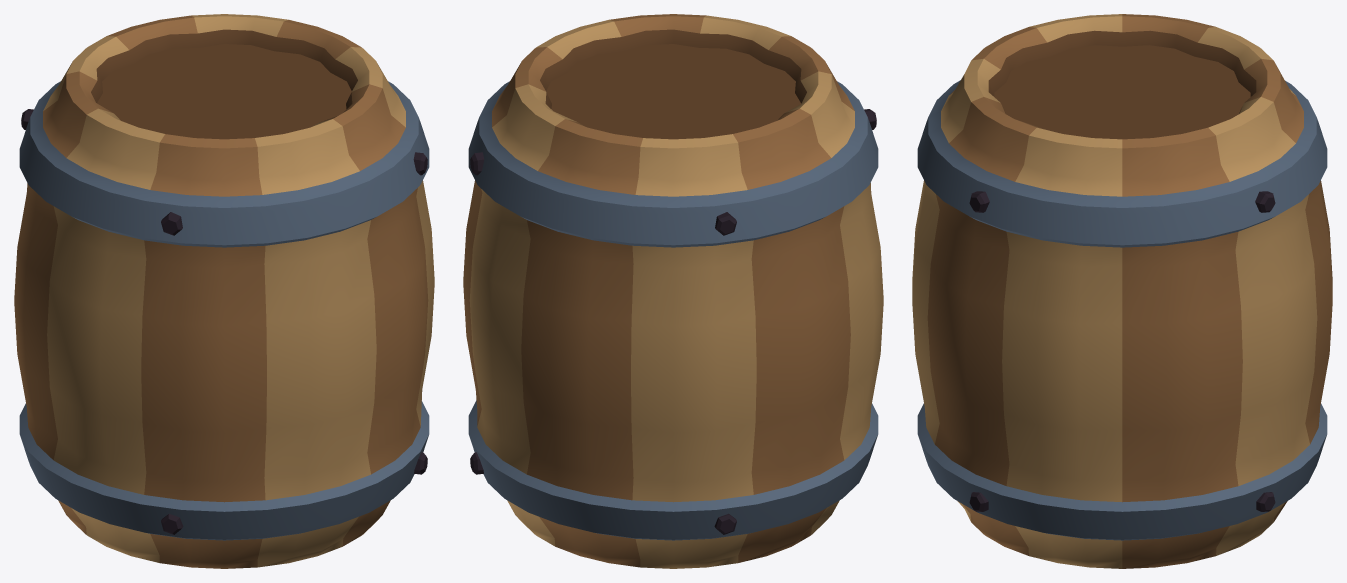
Rendered from Barrel_24.glb.
3 renders of one model, left to right at view 1: azimuth 30°, elevation 25°; view 2: azimuth 150°, elevation 25°; view 3: azimuth 270°, elevation 25°, orthographic.
Parts seen in each view (by area): view 1: Barrel_24; view 2: Barrel_24; view 3: Barrel_24.
Part boxes in pixels (<box>): Barrel_24: <box>14,14,434,568</box>; Barrel_24: <box>463,14,883,568</box>; Barrel_24: <box>912,14,1332,568</box>.
Size of the model in its own units: 2.19 by 2.49 by 2.22.
